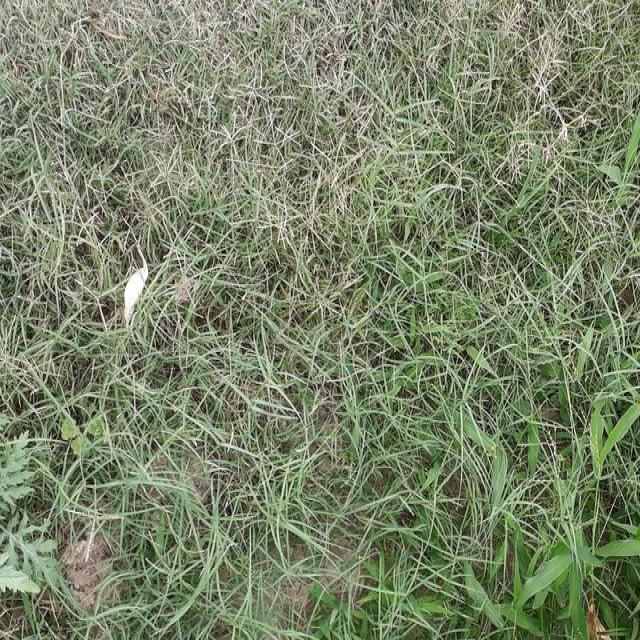weed: (343, 226, 640, 640), (1, 359, 252, 632)
